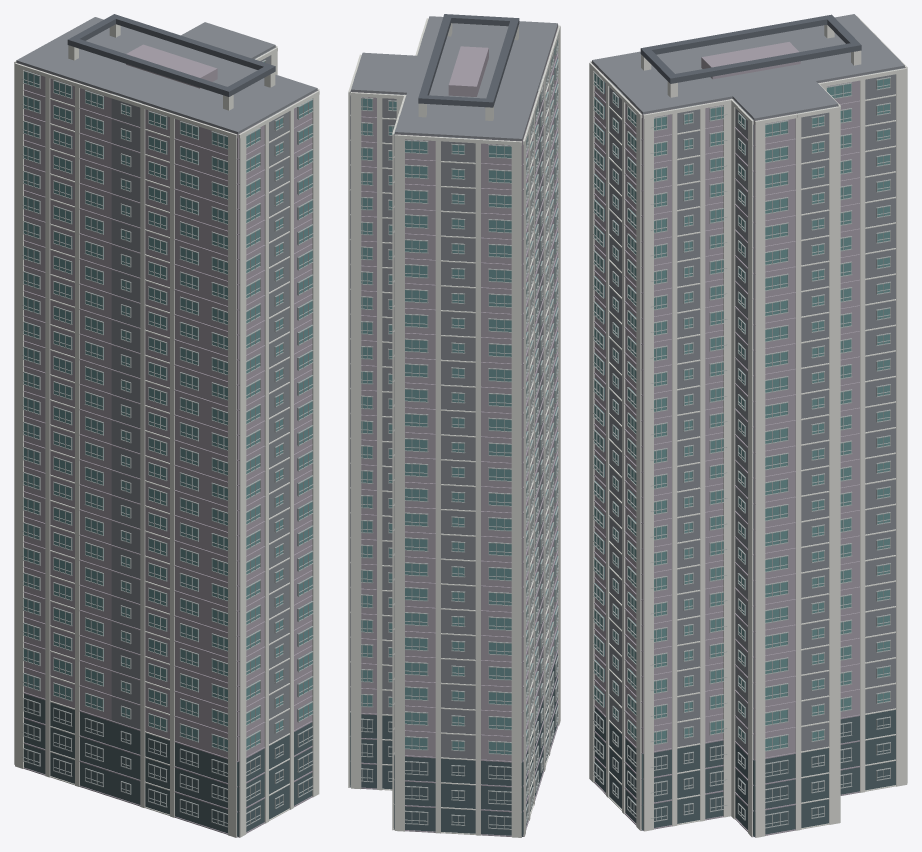
Rendered from bespoke-shinbanpo-xi-104.glb.
3 renders of one model, left to right at view 1: azimuth 30°, elevation 25°; view 2: azimuth 150°, elevation 25°; view 3: azimuth 270°, elevation 25°, orthographic. The views are drawn at different scales.
Visible parts, largest first — view 1: SBX104_editable_SBX104_lavender_grey_metallic_panels, SBX104_editable_SBX104_white_vertical_frame, SBX104_editable_SBX104_pale_teal_glazing, SBX104_editable_SBX104_grey_inset_service_walls, SBX104_editable_SBX104_thin_grey_window_mullions, SBX104_editable_SBX104_dark_glazed_base, SBX104_editable_SBX104_broad_charcoal_roof_caps; view 2: SBX104_editable_SBX104_white_vertical_frame, SBX104_editable_SBX104_grey_inset_service_walls, SBX104_editable_SBX104_lavender_grey_metallic_panels, SBX104_editable_SBX104_thin_grey_window_mullions, SBX104_editable_SBX104_pale_teal_glazing, SBX104_editable_SBX104_dark_glazed_base, SBX104_editable_SBX104_broad_charcoal_roof_caps; view 3: SBX104_editable_SBX104_white_vertical_frame, SBX104_editable_SBX104_grey_inset_service_walls, SBX104_editable_SBX104_lavender_grey_metallic_panels, SBX104_editable_SBX104_pale_teal_glazing, SBX104_editable_SBX104_thin_grey_window_mullions, SBX104_editable_SBX104_dark_glazed_base, SBX104_editable_SBX104_broad_charcoal_roof_caps.
Part boxes in pixels (<box>): SBX104_editable_SBX104_lavender_grey_metallic_panels: <box>16,44,317,837</box>; SBX104_editable_SBX104_white_vertical_frame: <box>14,24,319,837</box>; SBX104_editable_SBX104_pale_teal_glazing: <box>23,61,312,751</box>; SBX104_editable_SBX104_grey_inset_service_walls: <box>16,17,317,743</box>; SBX104_editable_SBX104_thin_grey_window_mullions: <box>21,60,313,827</box>; SBX104_editable_SBX104_dark_glazed_base: <box>23,693,312,837</box>; SBX104_editable_SBX104_broad_charcoal_roof_caps: <box>67,14,275,96</box>; SBX104_editable_SBX104_white_vertical_frame: <box>348,18,560,837</box>; SBX104_editable_SBX104_grey_inset_service_walls: <box>350,16,557,759</box>; SBX104_editable_SBX104_lavender_grey_metallic_panels: <box>351,26,558,837</box>; SBX104_editable_SBX104_thin_grey_window_mullions: <box>361,35,559,829</box>; SBX104_editable_SBX104_pale_teal_glazing: <box>361,40,557,754</box>; SBX104_editable_SBX104_dark_glazed_base: <box>350,648,557,836</box>; SBX104_editable_SBX104_broad_charcoal_roof_caps: <box>418,14,519,107</box>; SBX104_editable_SBX104_white_vertical_frame: <box>589,16,907,837</box>; SBX104_editable_SBX104_grey_inset_service_walls: <box>592,14,904,759</box>; SBX104_editable_SBX104_lavender_grey_metallic_panels: <box>592,42,904,837</box>; SBX104_editable_SBX104_pale_teal_glazing: <box>594,73,889,750</box>; SBX104_editable_SBX104_thin_grey_window_mullions: <box>593,71,890,828</box>; SBX104_editable_SBX104_dark_glazed_base: <box>594,707,895,836</box>; SBX104_editable_SBX104_broad_charcoal_roof_caps: <box>640,14,861,83</box>.
Bounding box in the file's own units: 25.44 × 82 × 32.08.
